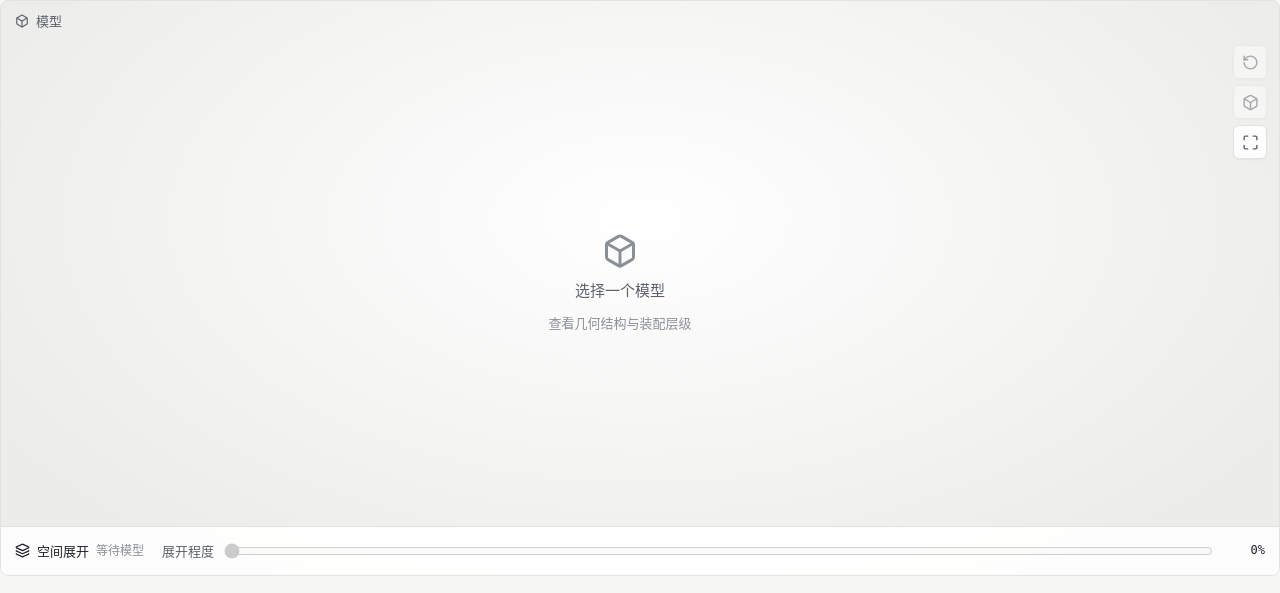
Test: fullscreen state › rejected fullscreen stays nonfatal
The width and height of the screenshot is (1280, 593).
Click the button named "全屏查看": click(1250, 142) x1=1233 y1=125 x2=1267 y2=159
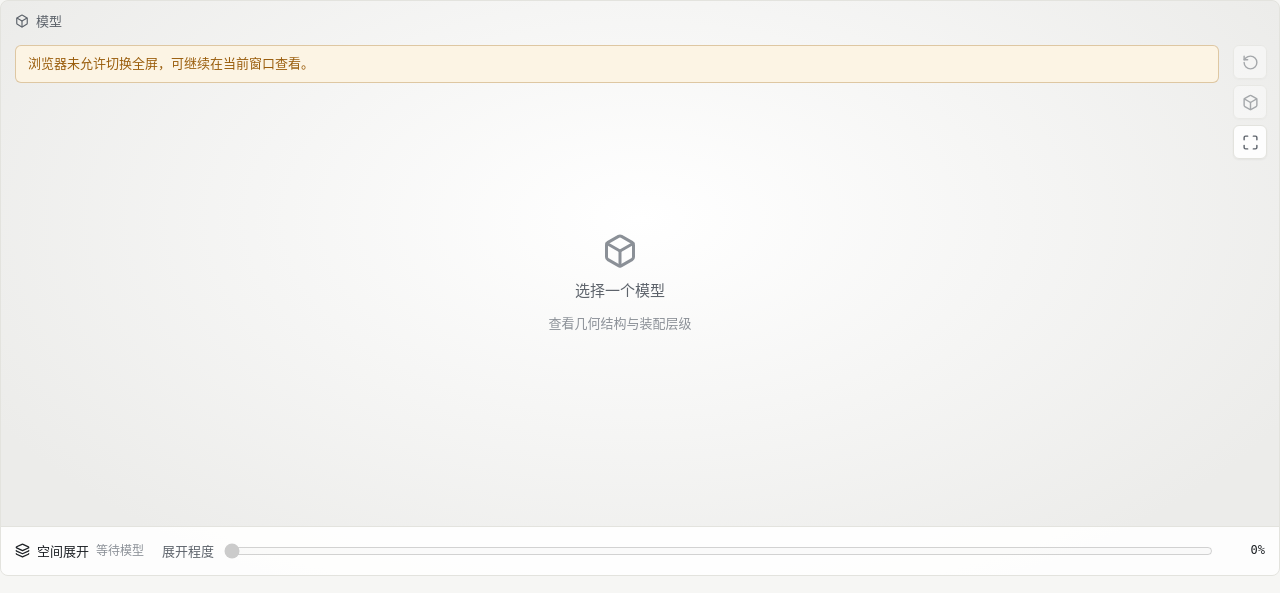
Expected: the text "浏览器未允许切换全屏，可继续在当前窗口查看。" is shown, x1=15 y1=45 x2=1219 y2=82
